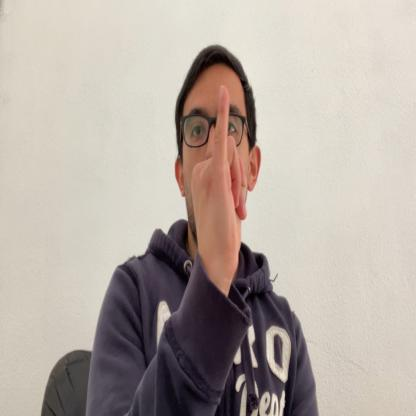I: (192, 84, 246, 284)
